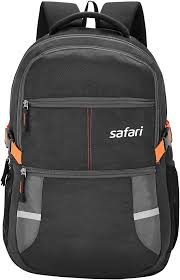backpack: (0, 0, 179, 278)
